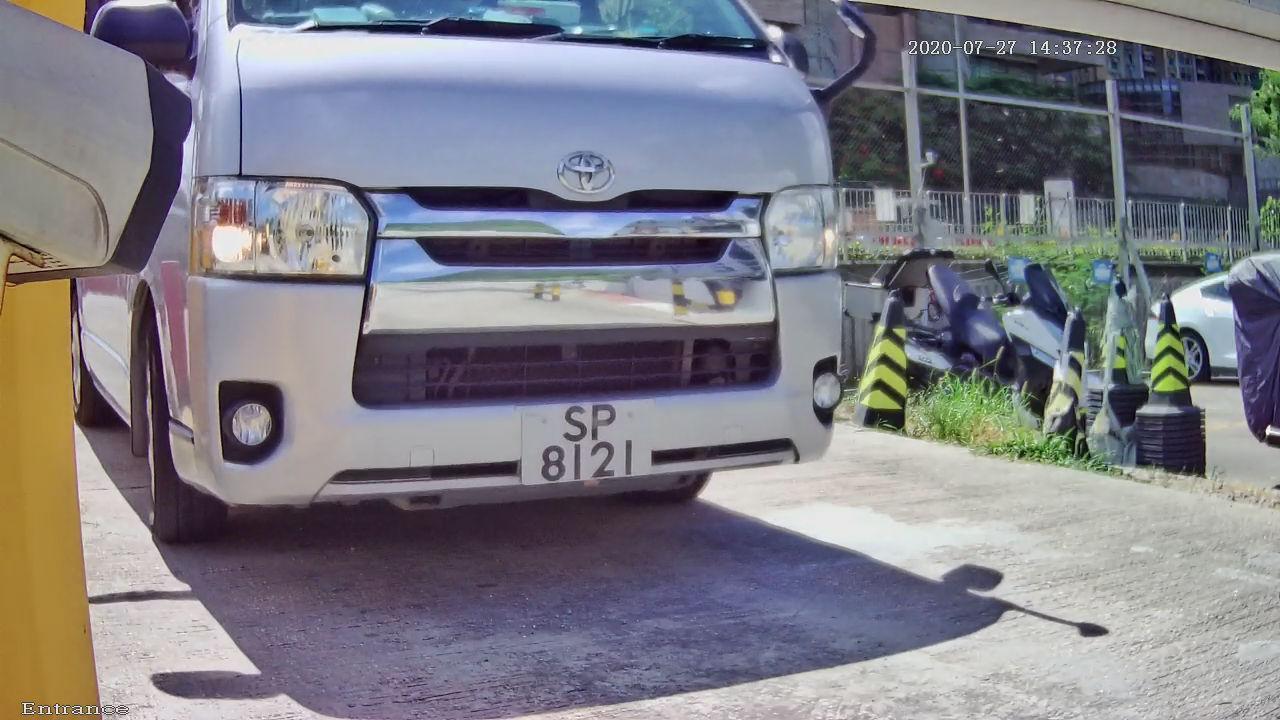privatecar: (63, 1, 955, 592)
